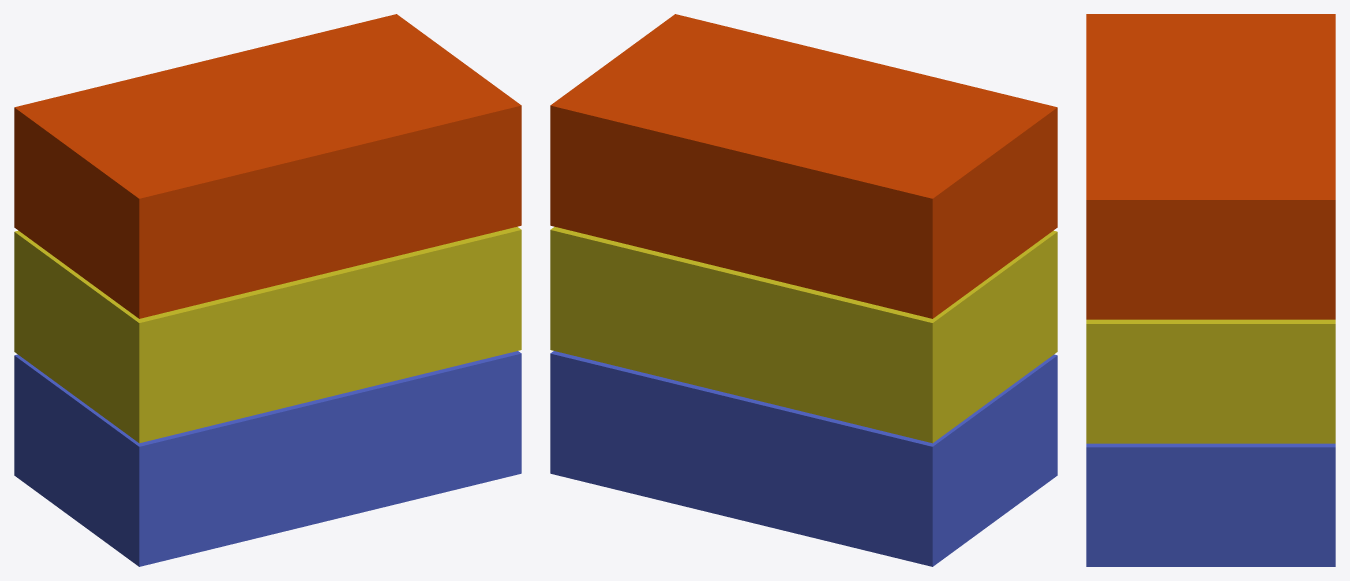
The model's file is block.fbx.
3 renders of one model, left to right at view 1: azimuth 30°, elevation 25°; view 2: azimuth 150°, elevation 25°; view 3: azimuth 270°, elevation 25°, orthographic.
Parts seen in each view (by area): view 1: Block03, Block02, Block01; view 2: Block03, Block02, Block01; view 3: Block03, Block02, Block01.
Boxes of the visible parts, bbox=[...] form: Block03: bbox=[14, 14, 521, 318]; Block02: bbox=[14, 226, 521, 443]; Block01: bbox=[14, 351, 521, 566]; Block03: bbox=[550, 14, 1057, 318]; Block02: bbox=[550, 226, 1057, 443]; Block01: bbox=[550, 351, 1057, 566]; Block03: bbox=[1086, 14, 1335, 319]; Block02: bbox=[1086, 319, 1335, 443]; Block01: bbox=[1086, 443, 1335, 566].
Bounding box in the file's own units: 200 × 184 × 113.
